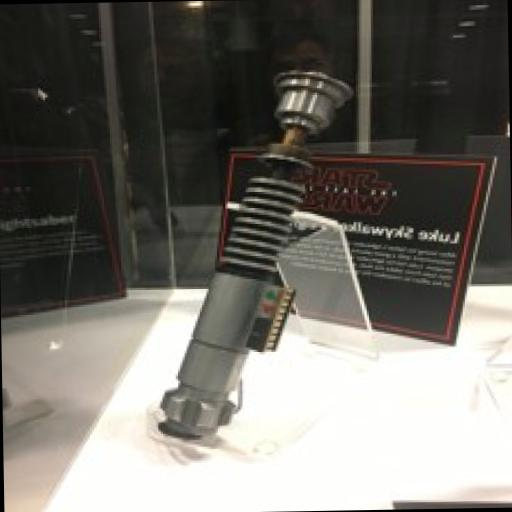lightsaber: (143, 64, 366, 445)
